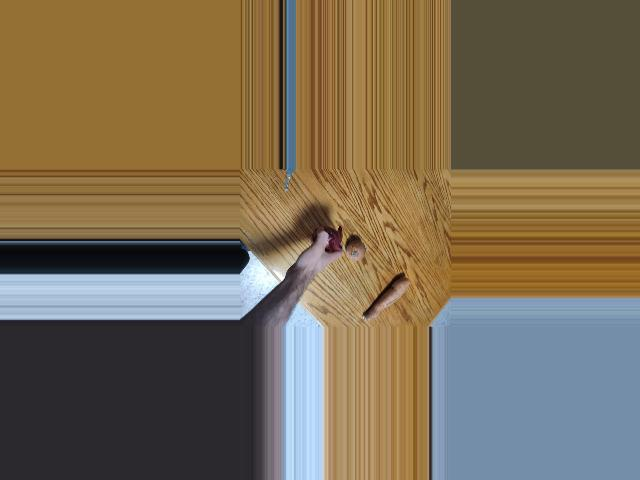onion: (339, 242, 364, 267)
